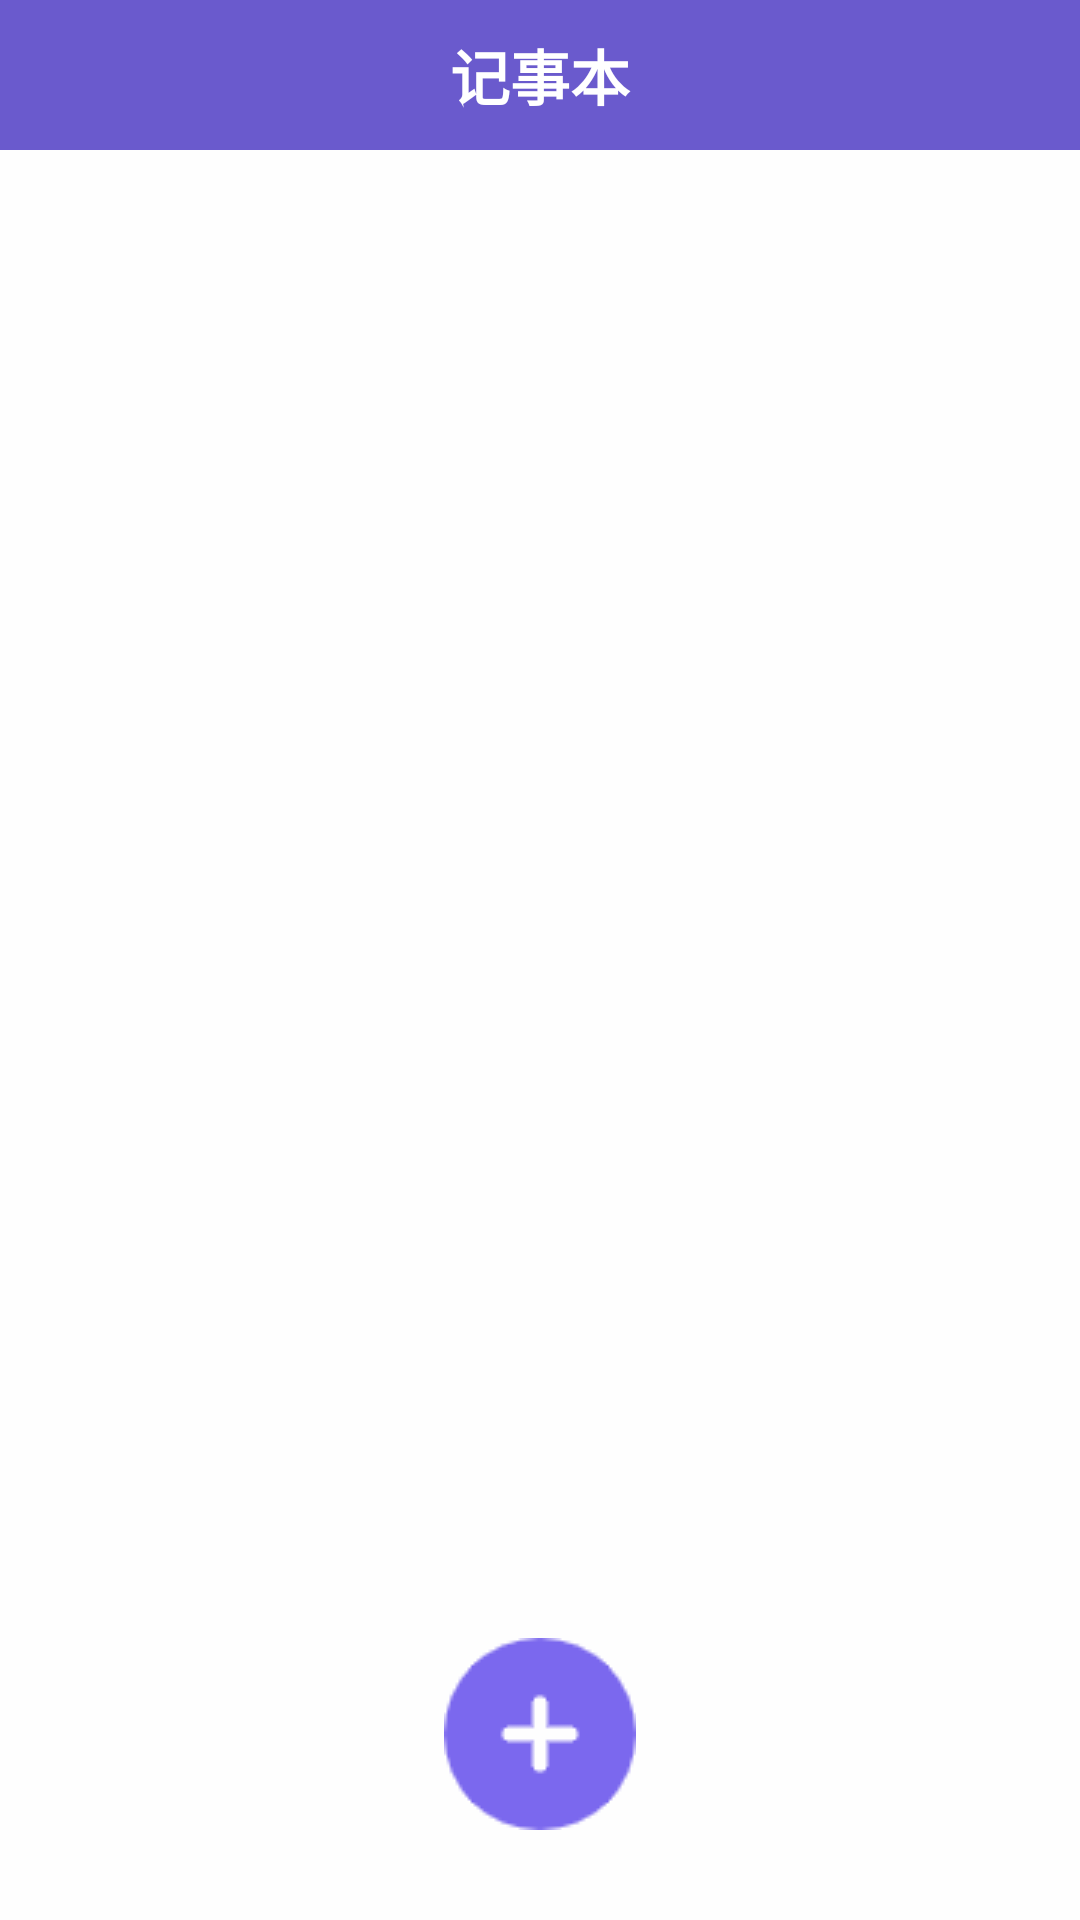

Icons on this 1080px x 1920px Android screen, each with the point to tap as (x,y):
add: (540,1734)
